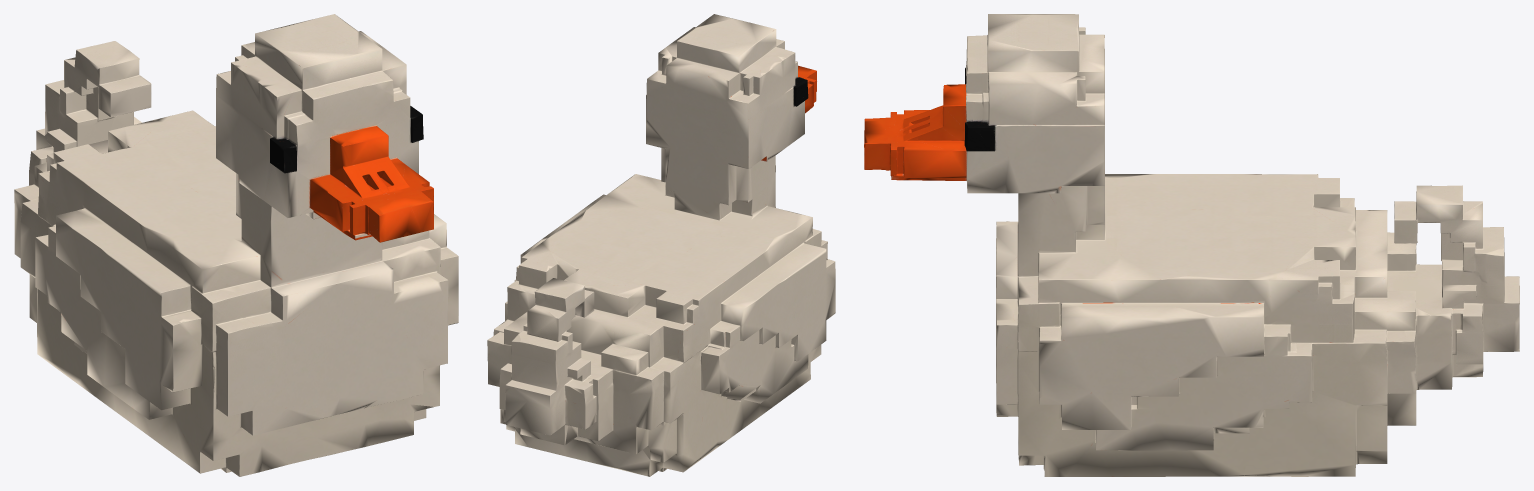
The model's file is Duck.fbx.
3 views of the same model, side by side, from view 1: azimuth 30°, elevation 25°; view 2: azimuth 150°, elevation 25°; view 3: azimuth 270°, elevation 25° (orthographic). The views are drawn at different scales.
Visible parts, largest first — view 1: Mesh_0; view 2: Mesh_0; view 3: Mesh_0.
Boxes of the visible parts, <box> form: Mesh_0: <box>14,14,458,476</box>; Mesh_0: <box>487,14,835,476</box>; Mesh_0: <box>864,14,1519,476</box>.
Size of the model in its own units: 91.46 by 127 by 190.
1 material, 1 textured.
